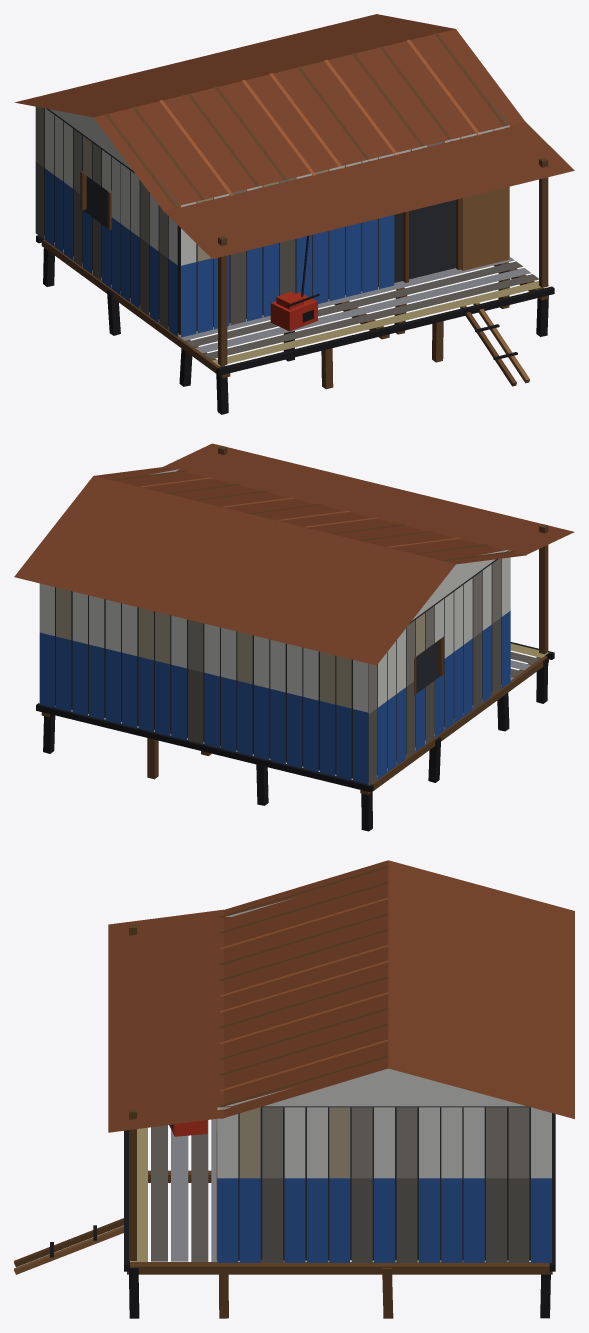
The model's file is building_makoko-viewing-centre.glb.
3 renders of one model, top to bottom at view 1: azimuth 30°, elevation 25°; view 2: azimuth 150°, elevation 25°; view 3: azimuth 270°, elevation 25°, orthographic. The views are drawn at different scales.
Visible parts, largest first — view 1: body; view 2: body; view 3: body.
Part boxes in pixels (x1=…): body: x1=14, y1=14, x2=574, y2=414; body: x1=14, y1=443, x2=574, y2=831; body: x1=14, y1=860, x2=574, y2=1318.
Bounding box in the file's own units: 6.6 × 3.87 × 7.51.
